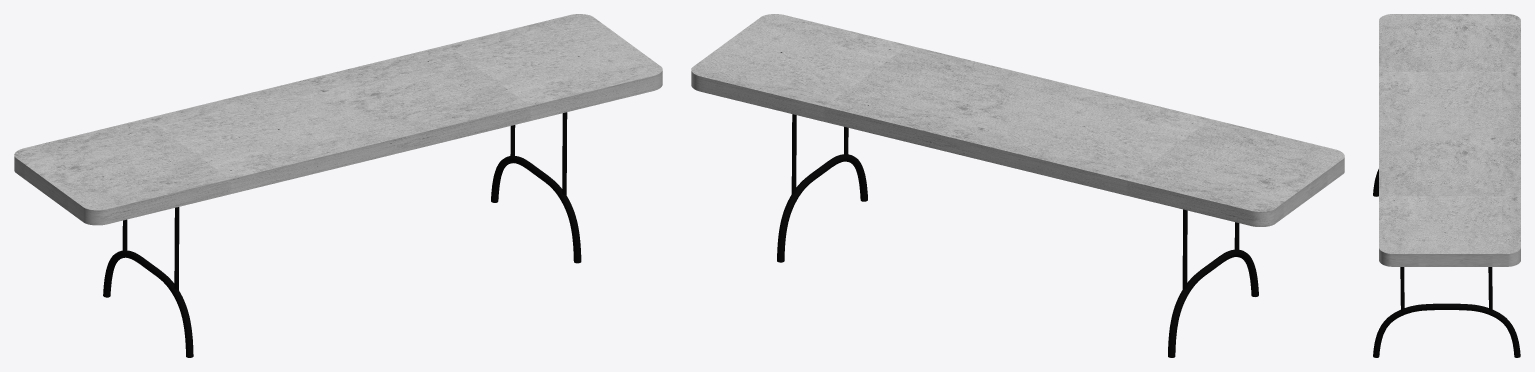
File: mesa.obj
3 views of the same model, side by side, from view 1: azimuth 30°, elevation 25°; view 2: azimuth 150°, elevation 25°; view 3: azimuth 270°, elevation 25° (orthographic). The views are drawn at different scales.
Visible parts, largest first — view 1: polySurface21; view 2: polySurface21; view 3: polySurface21.
Part boxes in pixels (x1,y1,x2,y2): polySurface21: [14, 14, 662, 357]; polySurface21: [691, 14, 1344, 357]; polySurface21: [1373, 14, 1520, 357].
Size of the model in its own units: 4 by 1.1 by 1.04.
